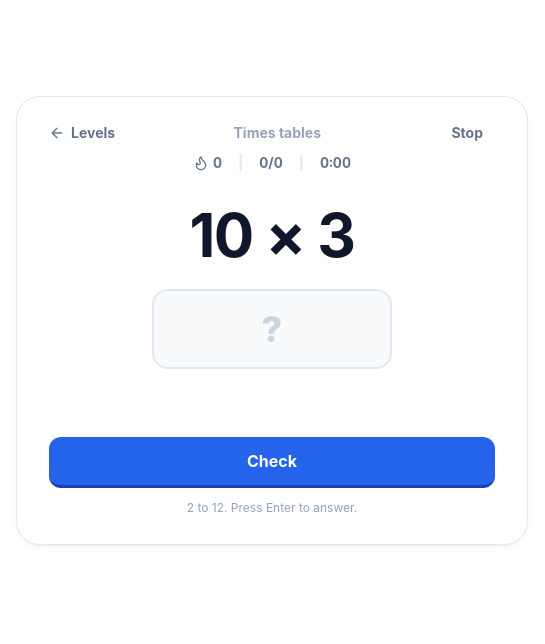
Test: stopping › shows xp the server actually paid
The width and height of the screenshot is (545, 644).
Type "30" into the field named "Answer for ".
click(272, 329); type("30")  # box x1=154 y1=309 x2=390 y2=349
Press Enter in the field named "Answer for ", box x1=154 y1=309 x2=390 y2=349
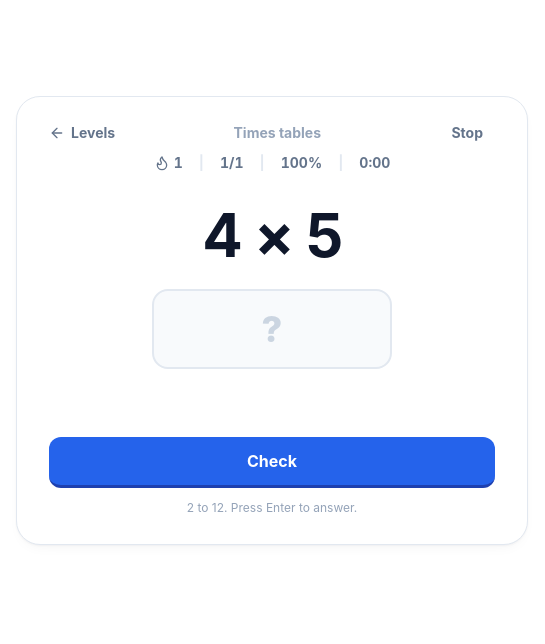
Type "20" into the field named "Answer for ".
click(272, 329); type("20")  # box x1=154 y1=309 x2=390 y2=349
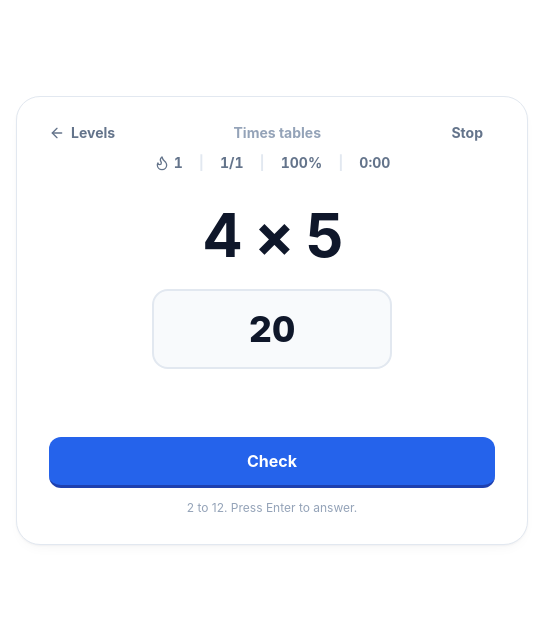
Press Enter in the field named "Answer for ", box x1=154 y1=309 x2=390 y2=349
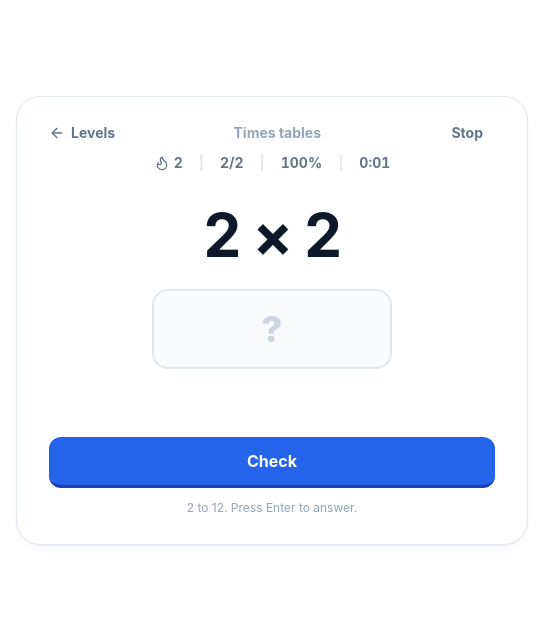
Type "4" into the field named "Answer for ".
click(272, 329); type("4")  # box x1=154 y1=309 x2=390 y2=349
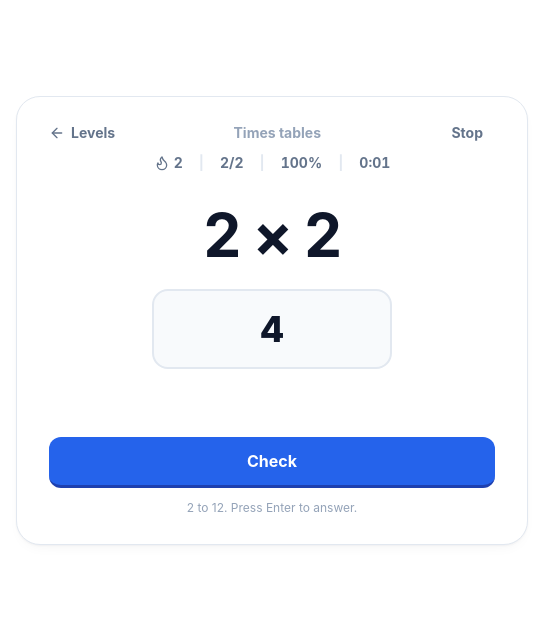
Press Enter in the field named "Answer for ", box x1=154 y1=309 x2=390 y2=349
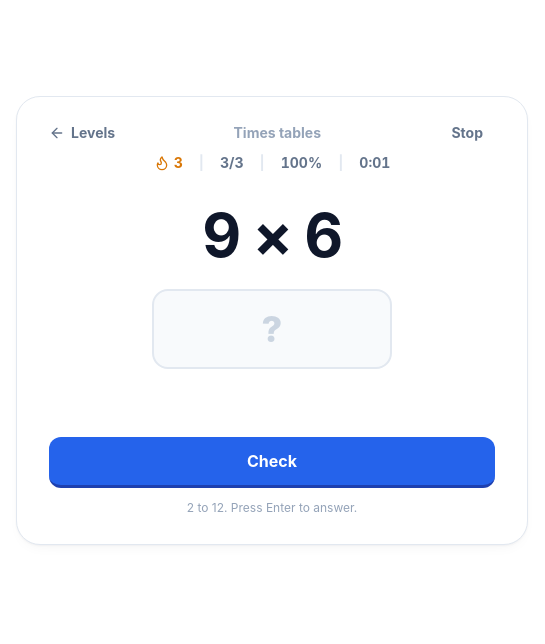
Click the button "Stop".
click(467, 133)  # box x1=439 y1=123 x2=495 y2=143
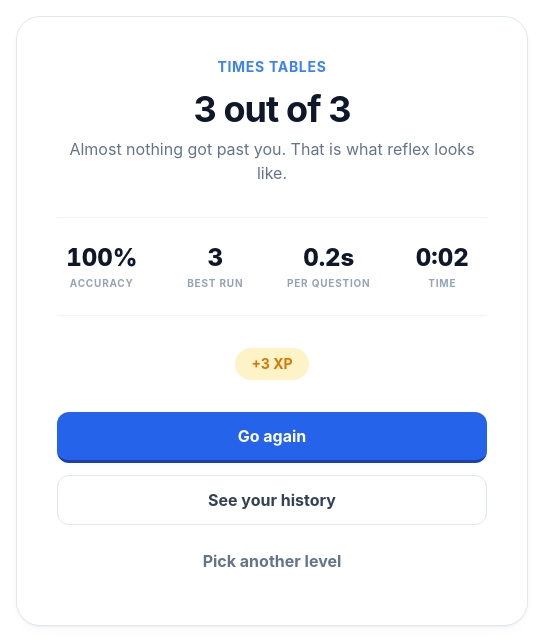
Expected: the heading "3 out of 3" is shown, x1=193 y1=86 x2=351 y2=130
Expected: the text "+3 XP" is shown, x1=235 y1=348 x2=309 y2=380
